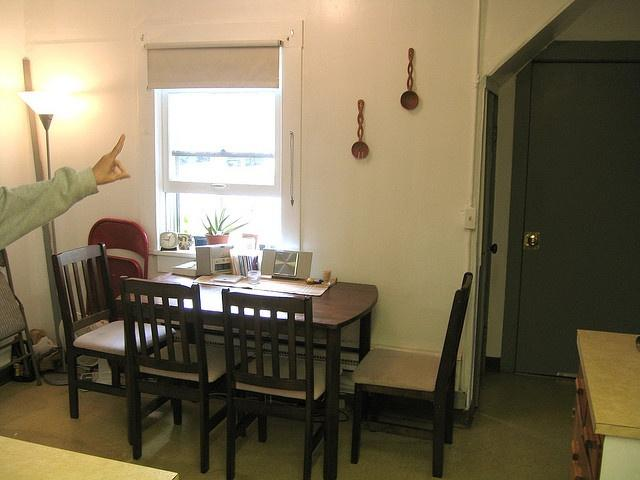Kursi: (348, 270, 472, 477), (119, 274, 224, 473), (220, 286, 325, 479), (49, 240, 126, 418)
Meja: (113, 264, 378, 353)
